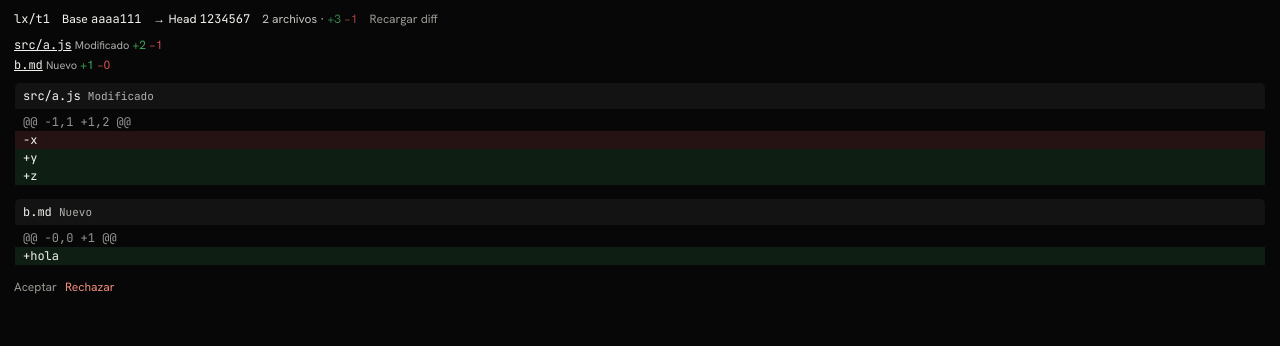
Test case: TaskDiffView › head_moved muestra expected_commit y found_commit, no registra y pide recargar
Click the button "Aceptar": (35, 287) [14, 278, 57, 296]
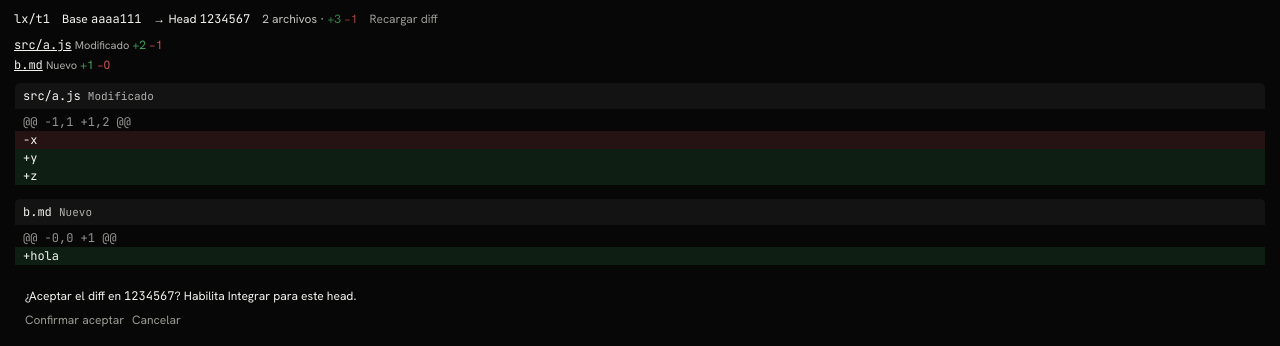
Click the button "Confirmar aceptar": (75, 320) [25, 311, 124, 329]
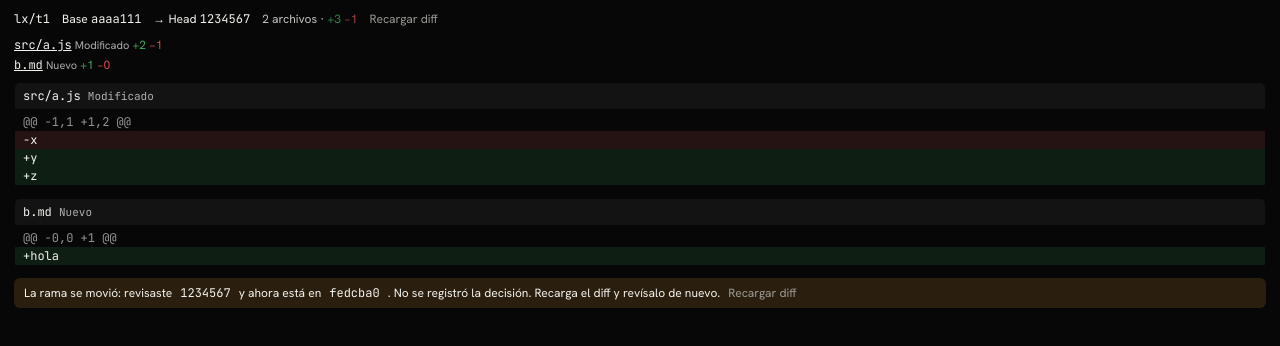
Now the message with test id "tdv-head-moved" shows "revisaste 1234567", box [14, 278, 1266, 308]
Now the message with test id "tdv-head-moved" shows "ahora está en fedcba0", box [14, 278, 1266, 308]
Now the button "Aceptar" is gone
Click the button "Recargar diff" in the row of "fedcba0": (762, 293) [728, 284, 796, 302]
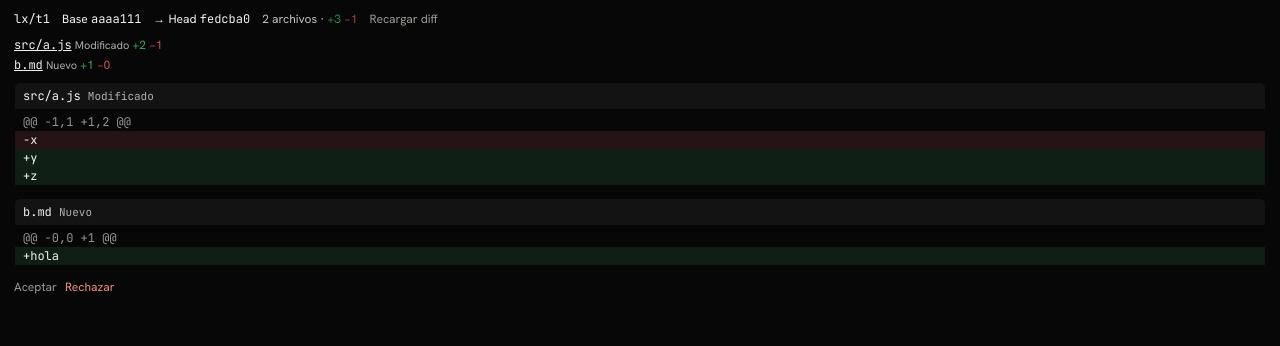
Now the text with test id "tdv-head" reads "fedcba0", box [200, 11, 250, 27]
Now the message with test id "tdv-head-moved" is gone
